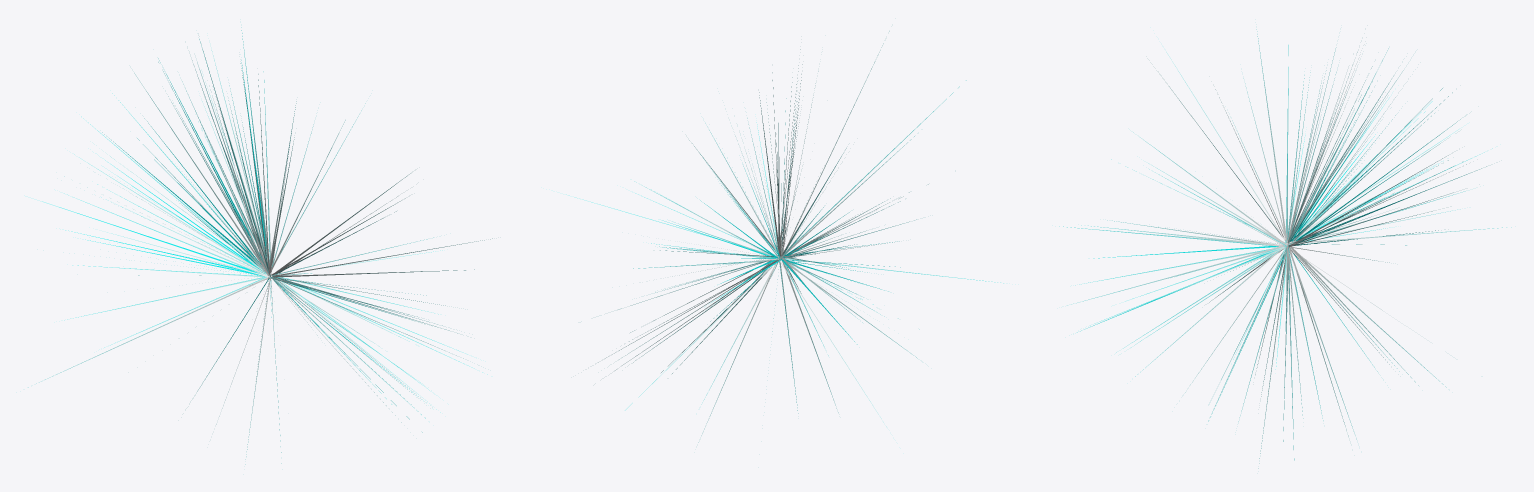
Rendered from ARC00.glb.
3 views of the same model, side by side, from view 1: azimuth 30°, elevation 25°; view 2: azimuth 150°, elevation 25°; view 3: azimuth 270°, elevation 25° (orthographic). The views are drawn at different scales.
Parts seen in each view (by area): view 1: Model; view 2: Model; view 3: Model.
Boxes of the visible parts, x1,y1,x2,y2 form: Model: (28, 27, 492, 464); Model: (566, 31, 1003, 442); Model: (1059, 29, 1511, 468).
Size of the model in its own units: 8.94 by 9.13 by 9.66.
